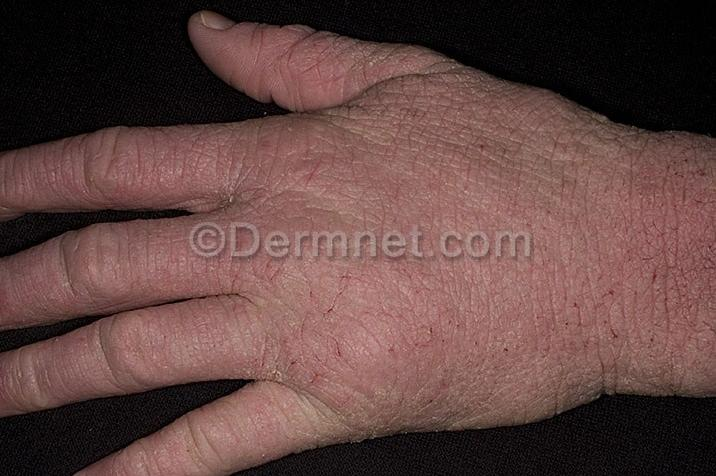exudacion 1: (639, 149, 708, 399), (288, 273, 349, 381), (557, 280, 619, 352)
liquenificacion 1: (6, 37, 716, 414)
xerosis 1: (302, 361, 600, 447), (188, 161, 257, 218), (239, 349, 285, 393)
